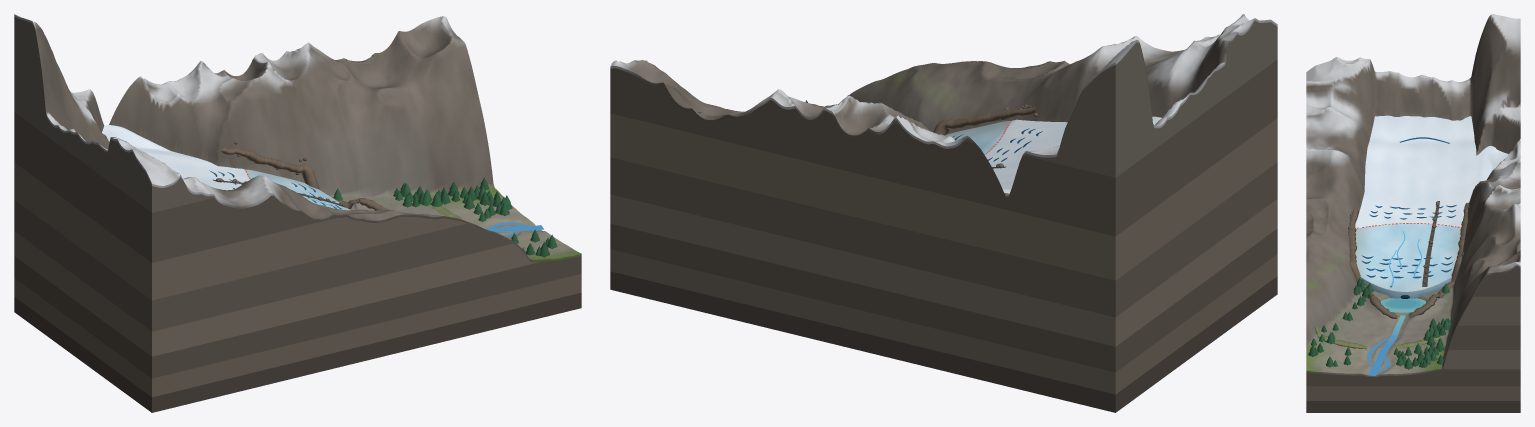
Rendered from glaciers.glb.
3 renders of one model, left to right at view 1: azimuth 30°, elevation 25°; view 2: azimuth 150°, elevation 25°; view 3: azimuth 270°, elevation 25°, orthographic. The views are drawn at different scales.
Visible parts, largest first — view 1: Terrain, Trees, Zone_Accumulation, Moraine_Lateral, Zone_Ablation; view 2: Terrain, Zone_Accumulation, Moraine_Lateral, Zone_Ablation; view 3: Terrain, Zone_Accumulation, Zone_Ablation, Trees, Moraine_Lateral, Glacier_Crevasses, Glacier_Margin, Melt_Lake, Moraine_Terminal, River_Main, Moraine_TerminalOld, Moraine_Medial (+1 smaller).
Part boxes in pixels (x1,y1,x2,y2): Terrain: (14, 14, 581, 412); Trees: (333, 177, 557, 257); Zone_Accumulation: (102, 125, 249, 190); Moraine_Lateral: (221, 141, 359, 208); Zone_Ablation: (245, 169, 349, 210); Terrain: (610, 14, 1277, 412); Zone_Accumulation: (985, 116, 1161, 193); Moraine_Lateral: (933, 104, 1037, 135); Zone_Ablation: (945, 121, 1010, 154); Terrain: (1306, 14, 1520, 412); Zone_Accumulation: (1355, 115, 1508, 228); Zone_Ablation: (1355, 223, 1460, 291); Trees: (1308, 278, 1450, 369); Moraine_Lateral: (1348, 202, 1469, 298); Glacier_Crevasses: (1361, 137, 1456, 278); Glacier_Margin: (1360, 277, 1451, 298); Melt_Lake: (1380, 298, 1426, 312); Moraine_Terminal: (1369, 295, 1437, 318); River_Main: (1368, 315, 1405, 376); Moraine_TerminalOld: (1315, 326, 1444, 349); Moraine_Medial: (1422, 201, 1439, 286).
Size of the model in its own units: 7.27 by 4.87 by 4.
